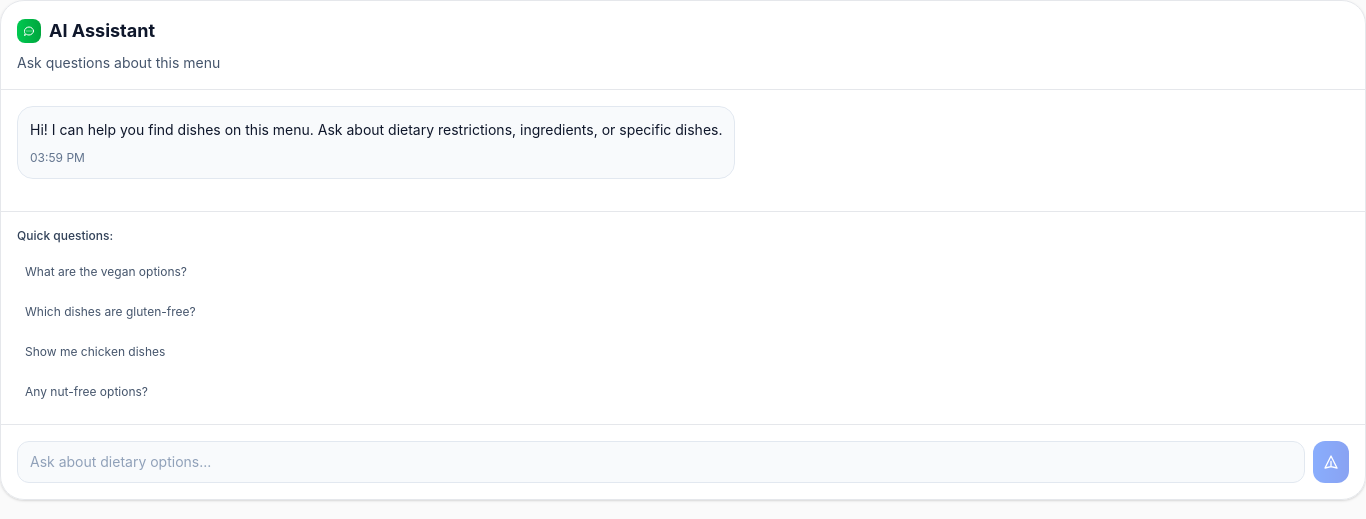
Test: ChatInterface › handles realistic dessert menu questions
Step 1. Type "What gelato options do you have?" into the field with placeholder "Ask about dietary options..." → (661, 462), box [17, 441, 1305, 483]
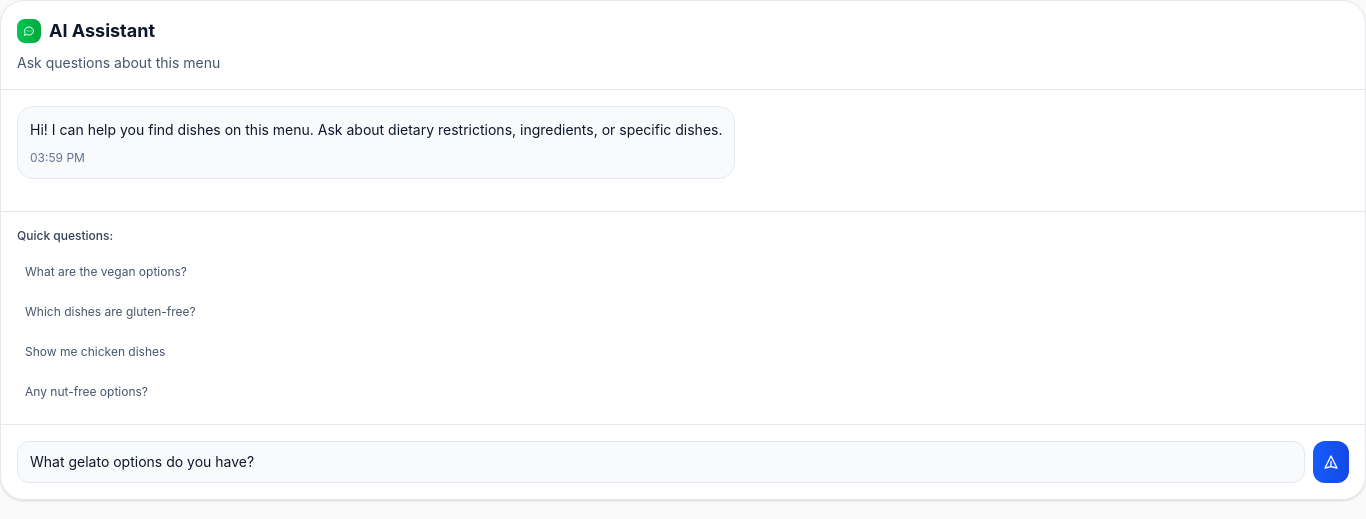
Step 2. Click the 5th button → (1331, 462), box [1313, 441, 1349, 483]
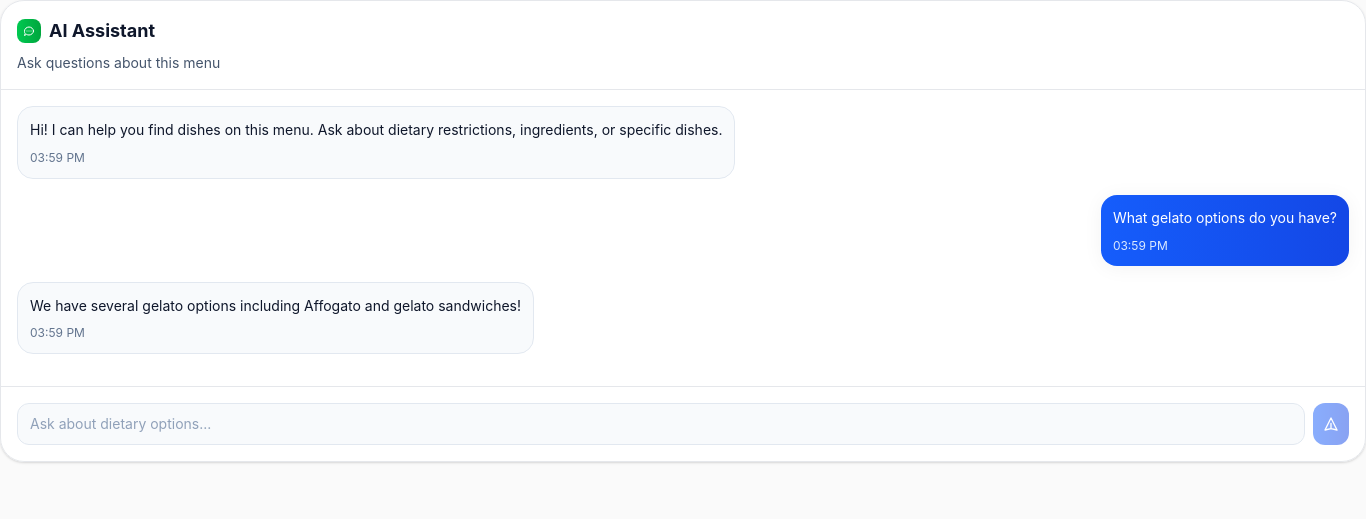
Now the text "What gelato options do you have?" is shown, box [1113, 207, 1337, 230]
Now the text "We have several gelato options including Affogato and gelato sandwiches!" is shown, box [30, 294, 521, 317]
